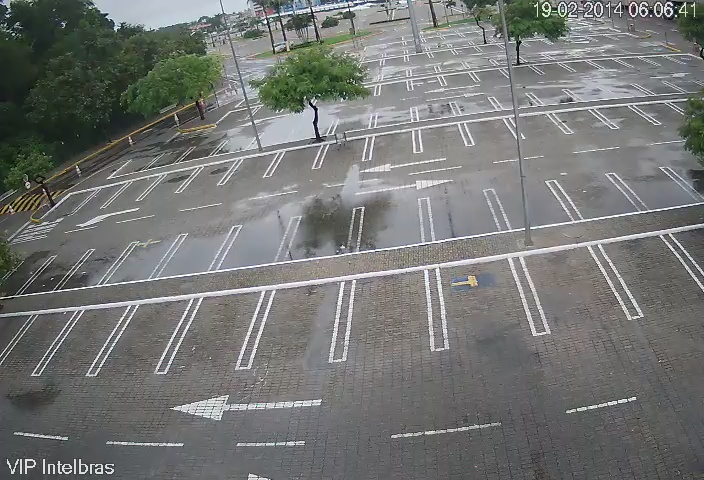lot: (421, 259, 531, 336), (343, 271, 438, 360), (506, 249, 619, 316), (257, 280, 341, 367), (595, 234, 694, 306), (176, 290, 253, 375), (112, 296, 187, 380), (61, 303, 113, 381), (350, 197, 431, 244), (423, 192, 500, 237), (11, 311, 58, 382), (554, 174, 631, 217), (492, 181, 565, 224), (622, 169, 695, 211), (287, 214, 353, 257), (220, 221, 275, 264), (502, 112, 568, 145), (114, 236, 163, 279), (549, 110, 614, 140), (167, 231, 218, 269), (366, 128, 419, 164), (414, 124, 468, 157), (464, 119, 522, 149), (323, 138, 370, 175), (634, 98, 690, 129), (593, 101, 649, 131), (74, 244, 115, 284), (233, 149, 274, 187), (38, 248, 70, 294), (270, 148, 321, 176), (150, 169, 191, 202), (187, 161, 234, 189), (9, 255, 40, 295), (114, 178, 152, 208), (48, 192, 87, 216), (86, 187, 121, 210), (453, 97, 498, 114), (605, 77, 644, 96), (414, 100, 457, 117), (332, 113, 370, 132), (152, 147, 187, 167), (493, 94, 539, 109), (530, 91, 576, 106), (572, 84, 611, 101), (219, 139, 260, 155), (640, 78, 677, 95), (186, 138, 216, 158), (113, 155, 148, 172), (372, 112, 416, 124)
